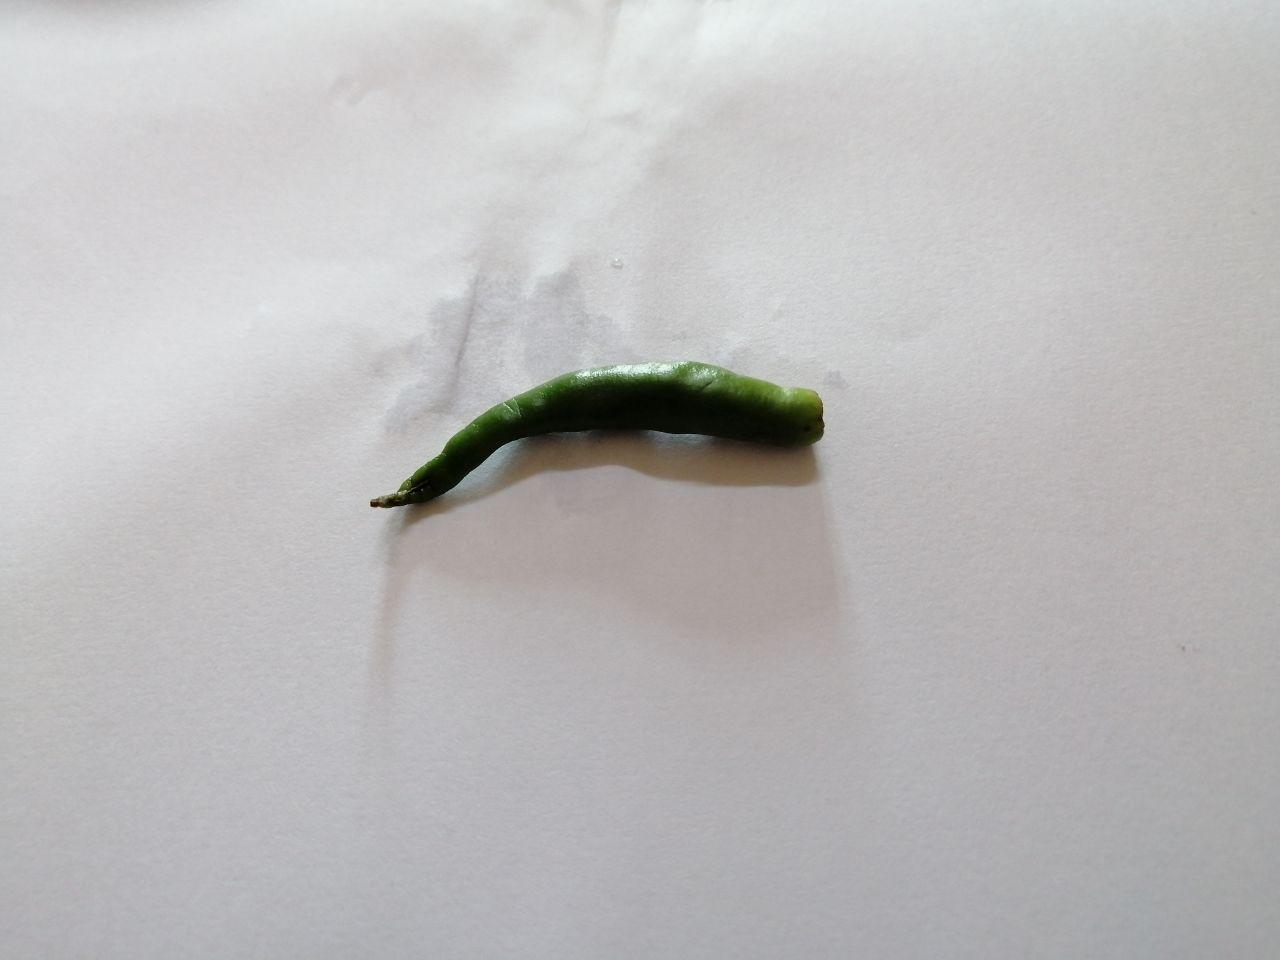lada hijau: (349, 328, 847, 550)
